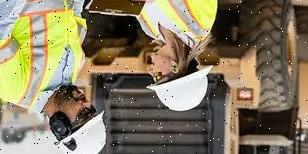Ear_protector: (51, 109, 73, 140)
Hard_hat: (144, 64, 220, 125), (56, 106, 111, 154)
Vest: (0, 0, 91, 108), (139, 0, 220, 42)
Visor: (66, 105, 97, 131), (143, 69, 179, 82)
